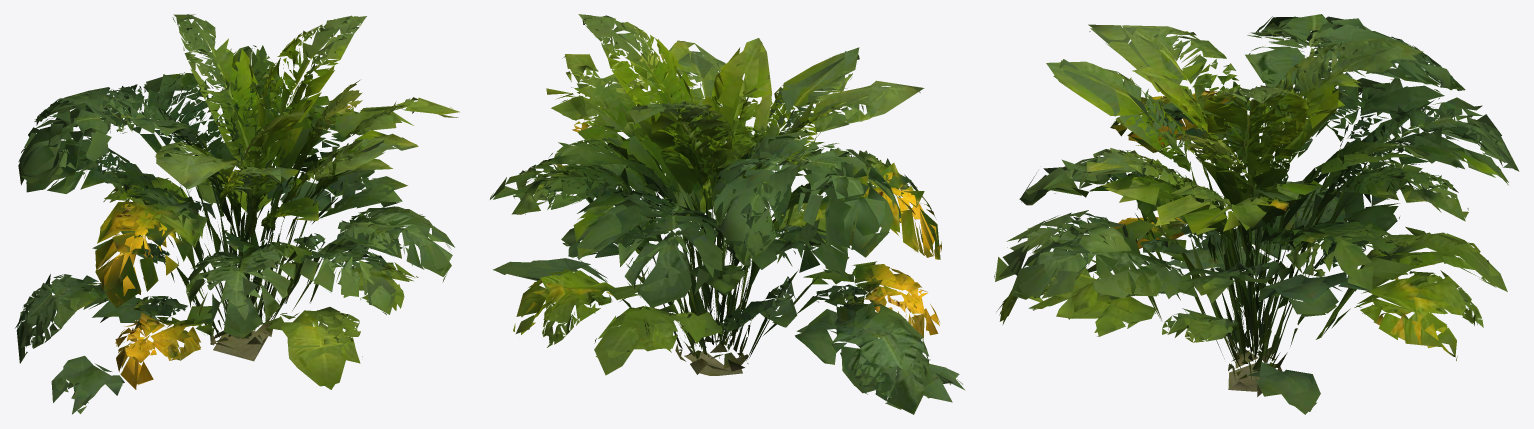
File: jungle_clump_hy3d.glb
The picture shows the model from 3 angles, left to right: view 1: azimuth 30°, elevation 25°; view 2: azimuth 150°, elevation 25°; view 3: azimuth 270°, elevation 25°; orthographic projection. The views are drawn at different scales.
Parts seen in each view (by area): view 1: node_0; view 2: node_0; view 3: node_0.
Part boxes in pixels (box(x1,y1,x2,y2)): node_0: box(15, 14, 459, 414); node_0: box(490, 14, 965, 414); node_0: box(994, 14, 1519, 414).
Size of the model in its own units: 0.9846 by 0.7339 by 0.9604.
Materials: 1 (1 with a texture image).
